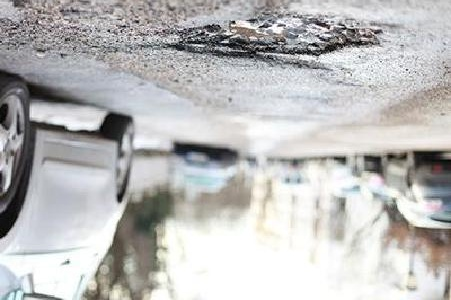pothole: (170, 10, 384, 73)
